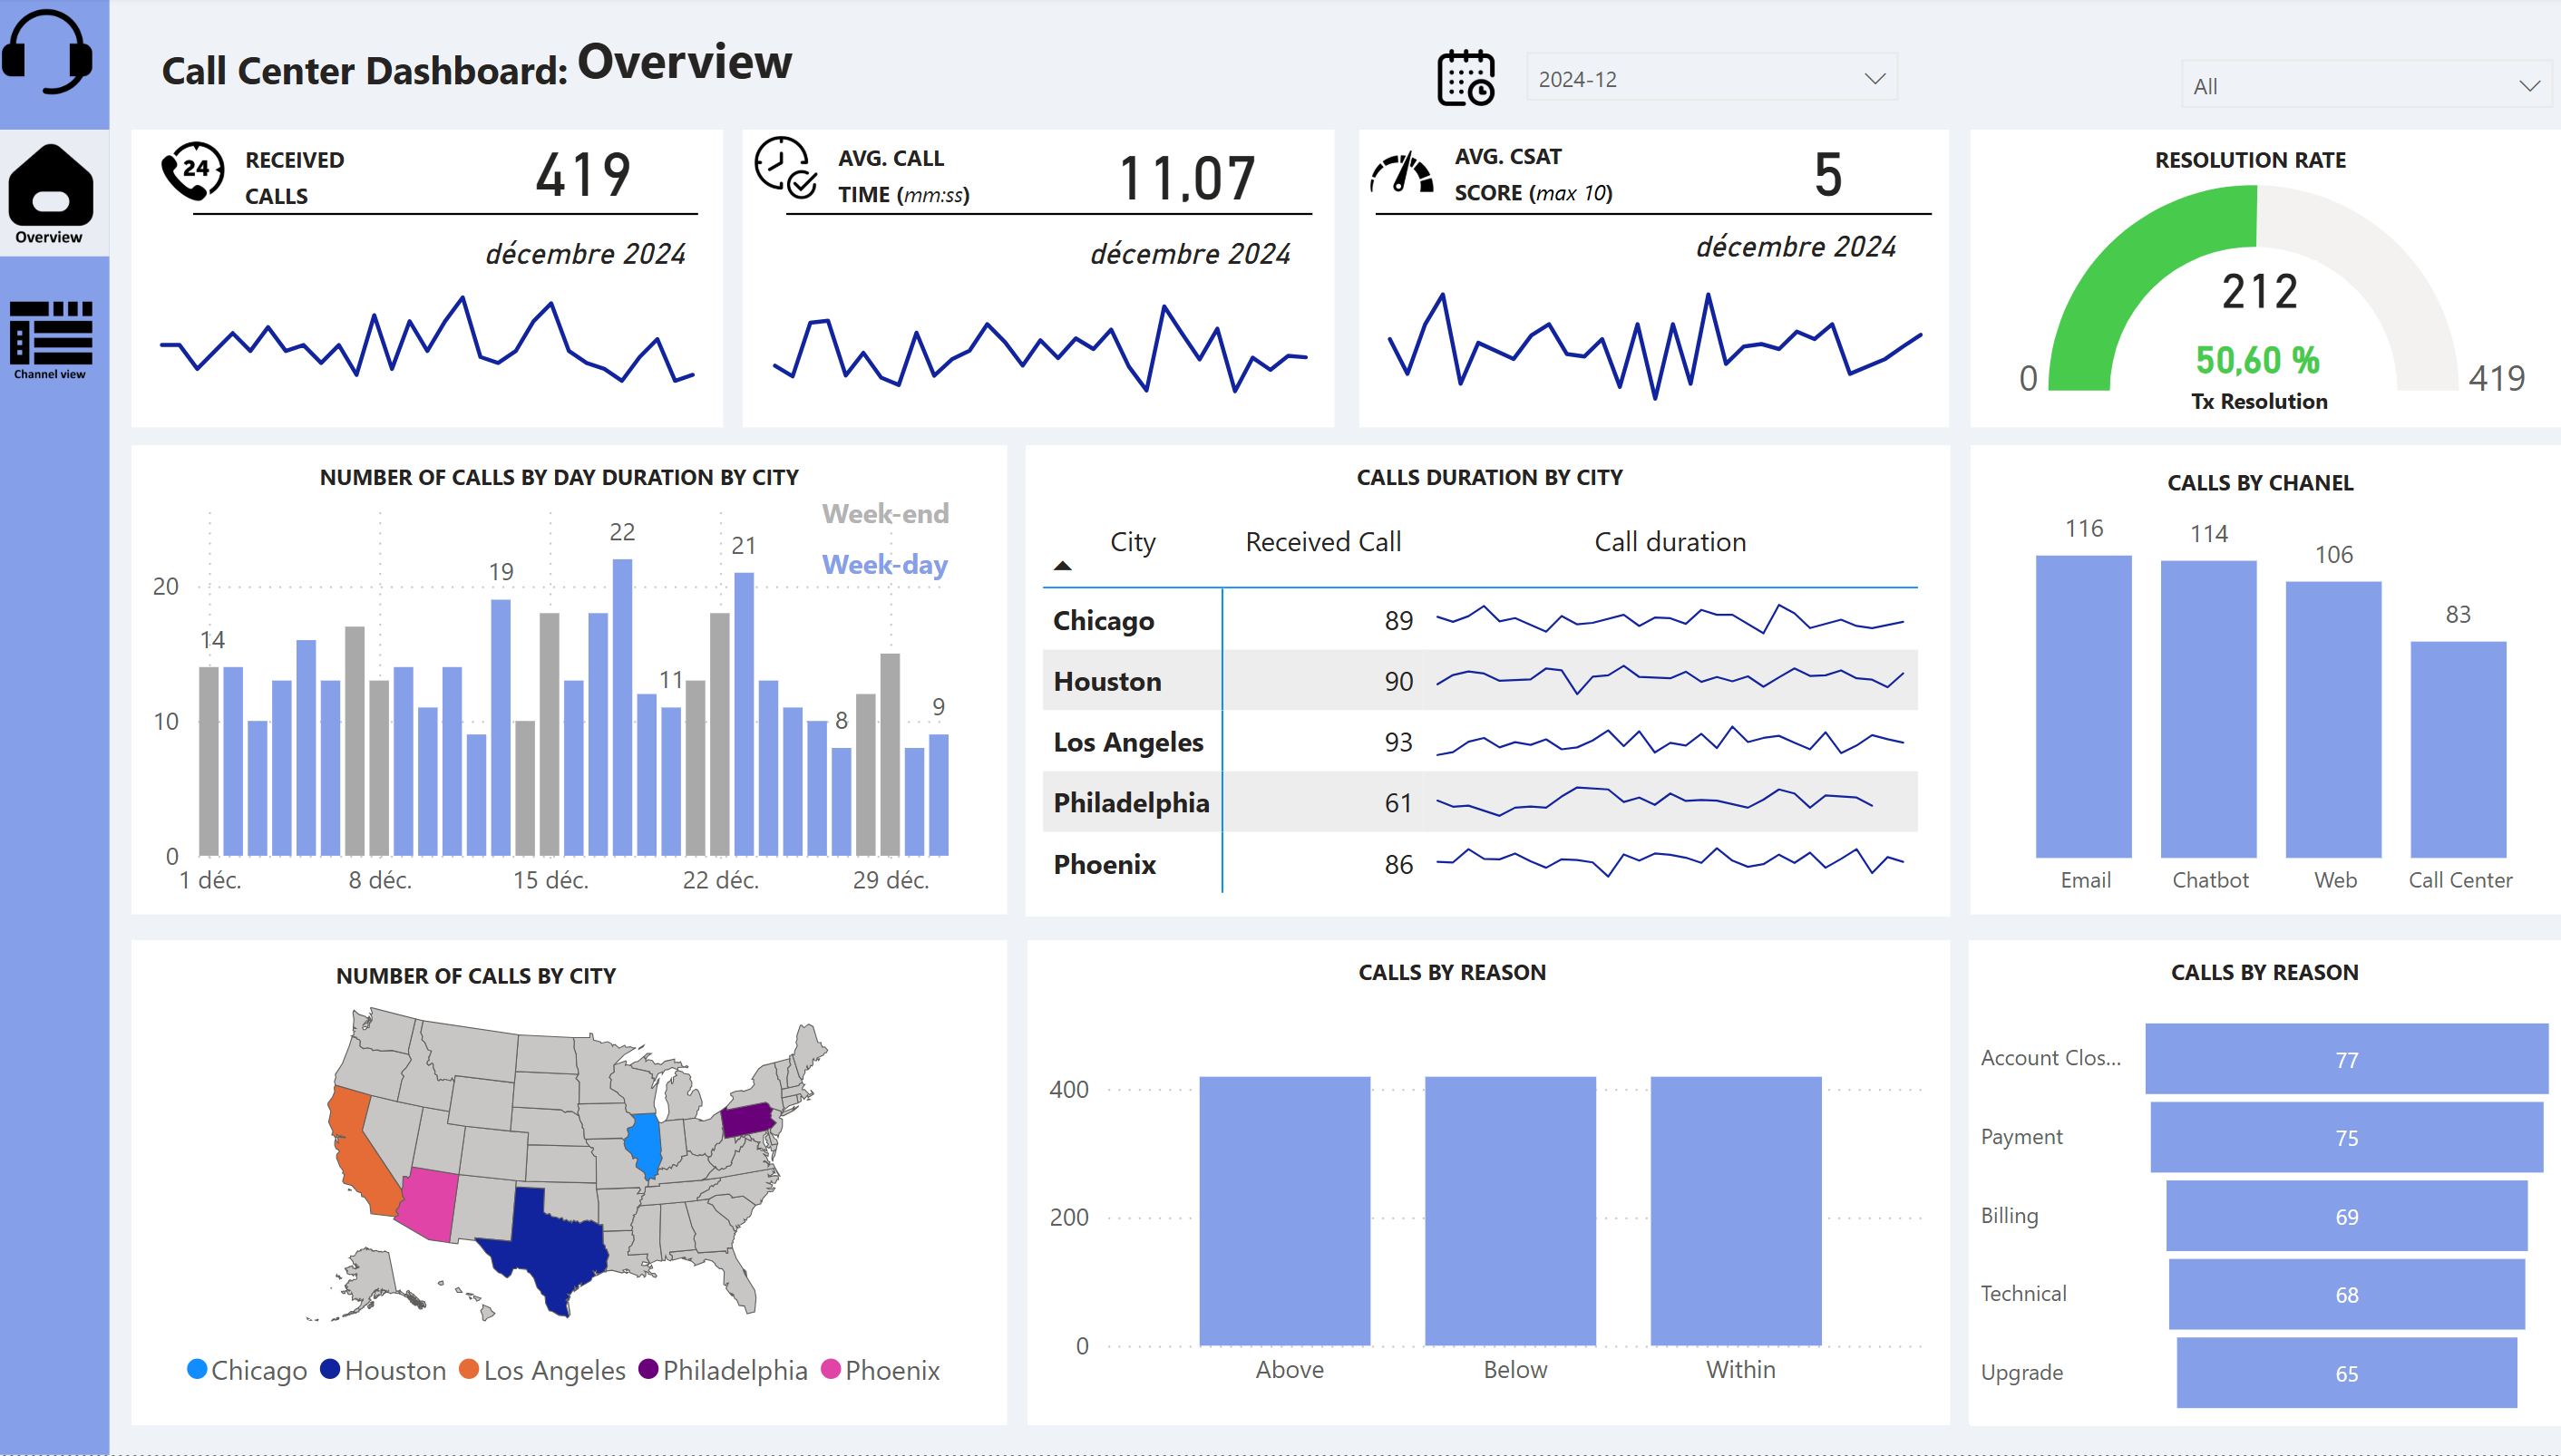

The dashboard page shown, as its layout file describes it:
{"tool":"powerbi","page":{"name":"Overview","canvas":[1280,720],"ordinal":0},"visuals":[{"type":"shape","box":[0,0,58.1,719.9],"z":0},{"type":"shape","box":[69.1,66.1,291.8,146.9],"z":1000},{"type":"shape","box":[370.6,66.1,291.8,146.9],"z":2000},{"type":"shape","box":[674,66.1,290.8,146.9],"z":3000},{"type":"shape","box":[975.6,66.1,297.6,146.9],"z":4000},{"type":"shape","box":[69.1,221.8,431.9,231.5],"z":5000},{"type":"shape","box":[509.8,221.8,456.1,232.5],"z":6000},{"type":"shape","box":[69.1,465.9,431.9,239.3],"z":7000},{"type":"shape","box":[975.6,221.8,298.6,231.5],"z":8000},{"type":"shape","box":[510.6,465.9,455.2,239.3],"z":9000},{"type":"image","box":[78.8,66.1,40.9,40.9],"z":10000},{"type":"shape","box":[99.2,96.3,249,22.4],"z":11000},{"type":"shape","box":[392,96.3,259.7,22.4],"z":12000},{"type":"shape","box":[682.8,96.3,274.3,22.4],"z":13000},{"type":"image","box":[371.6,64.2,40.9,40.9],"z":14000},{"type":"image","box":[0,0,54.7,55.5],"z":15000},{"type":"textbox","box":[78.8,18.5,225.7,45.7],"z":16000},{"type":"image","box":[706.1,21.4,40.9,37.9],"z":17000},{"type":"slicer","fields":{"Values":["DimCalendar.Mth"]},"box":[747,17.5,203.3,46.7],"z":18000},{"type":"card","fields":{"Values":["Table.Received Call"]},"box":[234.4,67.1,114.8,37.9],"z":19000},{"type":"card","fields":{"Values":["Table.Avg_call_time"]},"box":[536.9,69.1,104.1,37.9],"z":20000},{"type":"card","fields":{"Values":["Table.Avg_Csat_score"]},"box":[853,67.1,104.1,37.9],"z":21000},{"type":"lineChart","fields":{"Category":["DimCalendar.Date"],"Y":["Table.Received Call"]},"box":[69.1,126.4,291.8,78.8],"z":22000},{"type":"lineChart","fields":{"Category":["DimCalendar.Date"],"Y":["Table.Avg_call_time"]},"box":[371.6,126.4,291.8,78.8],"z":23000},{"type":"lineChart","fields":{"Category":["DimCalendar.Date"],"Y":["Table.Avg_Csat_score"]},"box":[674,126.4,291.8,78.8],"z":24000},{"type":"slicer","fields":{"Values":["DimGeography.City"]},"box":[1069.9,21.4,203.3,46.7],"z":25000},{"type":"textbox","box":[119.6,65.2,114.8,46.7],"z":26000},{"type":"textbox","box":[412.4,64.2,115.7,46],"z":27000},{"type":"card","fields":{"Values":["Min(DimCalendar.Mth_long)"]},"box":[234.3,111.8,115.4,33.1],"z":28000},{"type":"card","fields":{"Values":["Min(DimCalendar.Mth_long)"]},"box":[527.7,111.8,125.2,33.1],"z":29000},{"type":"card","fields":{"Values":["Min(DimCalendar.Mth_long)"]},"box":[820.2,108.2,137.7,33.1],"z":30000},{"type":"clusteredColumnChart","fields":{"Category":["DimChannel.ChannelName"],"Y":["Table.Received Call"]},"box":[978.5,240.6,293.4,212.9],"z":31000},{"type":"clusteredColumnChart","fields":{"Y":["Table.Received Call"],"Category":["DimCalendar.Date"]},"box":[74.2,240.6,418.6,213.8],"z":32000},{"type":"pivotTable","fields":{"Rows":["DimGeography.City"],"Values":["Table.Received Call","SparklineData(Table.Avg_call_time_[DimCalendar.Date])"]},"box":[513.4,248.6,449.9,205.7],"z":33000},{"type":"shapeMap","fields":{"Value":["Table.Received Call"],"Category":["DimGeography.State"],"Series":["DimGeography.City"]},"box":[73.9,485.3,419.2,211.1],"z":34000},{"type":"shape","box":[974.9,466,296,238.8],"z":35000},{"type":"clusteredColumnChart","fields":{"Category":["DimSLAStatus.Status"],"Y":["Table.Received Call"]},"box":[516.5,494.1,440.6,202.3],"z":36000},{"type":"gauge","fields":{"Y":["Table.Received Call_is_resolved"],"MaxValue":["Calculation.Received Call"]},"box":[978.5,88.5,292.5,116.3],"z":37000},{"type":"funnel","fields":{"Category":["DimReason.ReasonType"],"Y":["Calculation.Received Call"]},"box":[975.8,498.2,295.2,207.5],"z":38000},{"type":"image","box":[674.4,66.2,42,41.1],"z":39000},{"type":"textbox","box":[716.4,63.5,117,46],"z":40000},{"type":"card","fields":{"Values":["Table.Received Call_is_resolved"]},"box":[1090.3,130.6,56.3,28.6],"z":41000},{"type":"card","fields":{"Values":["Table.Tx Resolution"]},"box":[1079.6,165.5,75.1,29.5],"z":42000},{"type":"textbox","box":[1079.6,184,85.9,28.6],"z":43000},{"type":"textbox","box":[1061.7,65.3,114.5,32.2],"z":44000},{"type":"textbox","box":[1067.9,224.5,114.5,28],"z":45000},{"type":"textbox","box":[1069.7,466,114.5,32.2],"z":46000},{"type":"textbox","box":[667.7,221.8,152.2,30.7],"z":47000},{"type":"textbox","box":[156.9,221.8,261.9,30.7],"z":48000},{"type":"textbox","box":[164.6,467.8,254,30.4],"z":49000},{"type":"textbox","box":[669,466,114.5,32.2],"z":50000},{"type":"image","box":[0,141.1,58.1,55.1],"z":52000},{"type":"image","box":[0.4,66.1,58.1,62.3],"z":53000},{"type":"textbox","box":[283.8,10,168.8,45],"z":54000},{"type":"textbox","box":[404.3,240.6,96.6,33.1],"z":55000},{"type":"textbox","box":[404.4,266,84.4,27.8],"z":56000}]}

Visuals, with their boxes on the page's 1280x720 design canvas (x1, y1, x2, y2). These are canvas units, not pixel positions in the 2561x1456 screenshot, which may show the page scaled, cropped or inside an application window:
shape: [0, 0, 58, 720]
shape: [69, 66, 361, 213]
shape: [371, 66, 662, 213]
shape: [674, 66, 965, 213]
shape: [976, 66, 1273, 213]
shape: [69, 222, 501, 453]
shape: [510, 222, 966, 454]
shape: [69, 466, 501, 705]
shape: [976, 222, 1274, 453]
shape: [511, 466, 966, 705]
image: [79, 66, 120, 107]
shape: [99, 96, 348, 119]
shape: [392, 96, 652, 119]
shape: [683, 96, 957, 119]
image: [372, 64, 412, 105]
image: [0, 0, 55, 56]
textbox: [79, 18, 304, 64]
image: [706, 21, 747, 59]
slicer - DimCalendar.Mth: [747, 18, 950, 64]
card - Table.Received Call: [234, 67, 349, 105]
card - Table.Avg_call_time: [537, 69, 641, 107]
card - Table.Avg_Csat_score: [853, 67, 957, 105]
lineChart - DimCalendar.Date x Table.Received Call: [69, 126, 361, 205]
lineChart - DimCalendar.Date x Table.Avg_call_time: [372, 126, 663, 205]
lineChart - DimCalendar.Date x Table.Avg_Csat_score: [674, 126, 966, 205]
slicer - DimGeography.City: [1070, 21, 1273, 68]
textbox: [120, 65, 234, 112]
textbox: [412, 64, 528, 110]
card - Min(DimCalendar.Mth_long): [234, 112, 350, 145]
card - Min(DimCalendar.Mth_long): [528, 112, 653, 145]
card - Min(DimCalendar.Mth_long): [820, 108, 958, 141]
clusteredColumnChart - DimChannel.ChannelName x Table.Received Call: [978, 241, 1272, 454]
clusteredColumnChart - Table.Received Call x DimCalendar.Date: [74, 241, 493, 454]
pivotTable - DimGeography.City x Table.Received Call: [513, 249, 963, 454]
shapeMap - Table.Received Call x DimGeography.State: [74, 485, 493, 696]
shape: [975, 466, 1271, 705]
clusteredColumnChart - DimSLAStatus.Status x Table.Received Call: [516, 494, 957, 696]
gauge - Table.Received Call_is_resolved x Calculation.Received Call: [978, 88, 1271, 205]
funnel - DimReason.ReasonType x Calculation.Received Call: [976, 498, 1271, 706]
image: [674, 66, 716, 107]
textbox: [716, 64, 833, 110]
card - Table.Received Call_is_resolved: [1090, 131, 1147, 159]
card - Table.Tx Resolution: [1080, 166, 1155, 195]
textbox: [1080, 184, 1166, 213]
textbox: [1062, 65, 1176, 98]
textbox: [1068, 224, 1182, 252]
textbox: [1070, 466, 1184, 498]
textbox: [668, 222, 820, 252]
textbox: [157, 222, 419, 252]
textbox: [165, 468, 419, 498]
textbox: [669, 466, 784, 498]
image: [0, 141, 58, 196]
image: [0, 66, 58, 128]
textbox: [284, 10, 453, 55]
textbox: [404, 241, 501, 274]
textbox: [404, 266, 489, 294]
